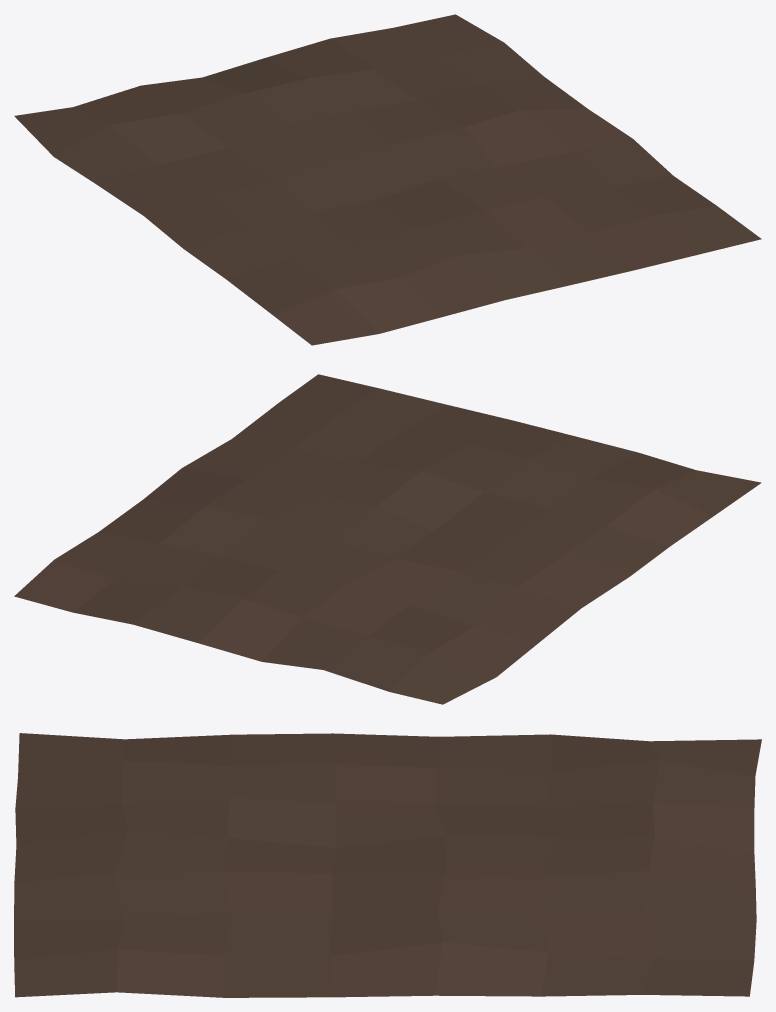
The model's file is Garden Ground Big.fbx.
3 views of the same model, one above another, from view 1: azimuth 30°, elevation 25°; view 2: azimuth 150°, elevation 25°; view 3: azimuth 270°, elevation 25° (orthographic). The views are drawn at different scales.
Parts seen in each view (by area): view 1: Garden Ground Big.001; view 2: Garden Ground Big.001; view 3: Garden Ground Big.001.
Boxes of the visible parts, x1=… form: Garden Ground Big.001: x1=14, y1=14, x2=761, y2=345; Garden Ground Big.001: x1=14, y1=374, x2=761, y2=704; Garden Ground Big.001: x1=14, y1=733, x2=761, y2=997.
Bounding box in the file's own units: 220 × 263 × 8.
